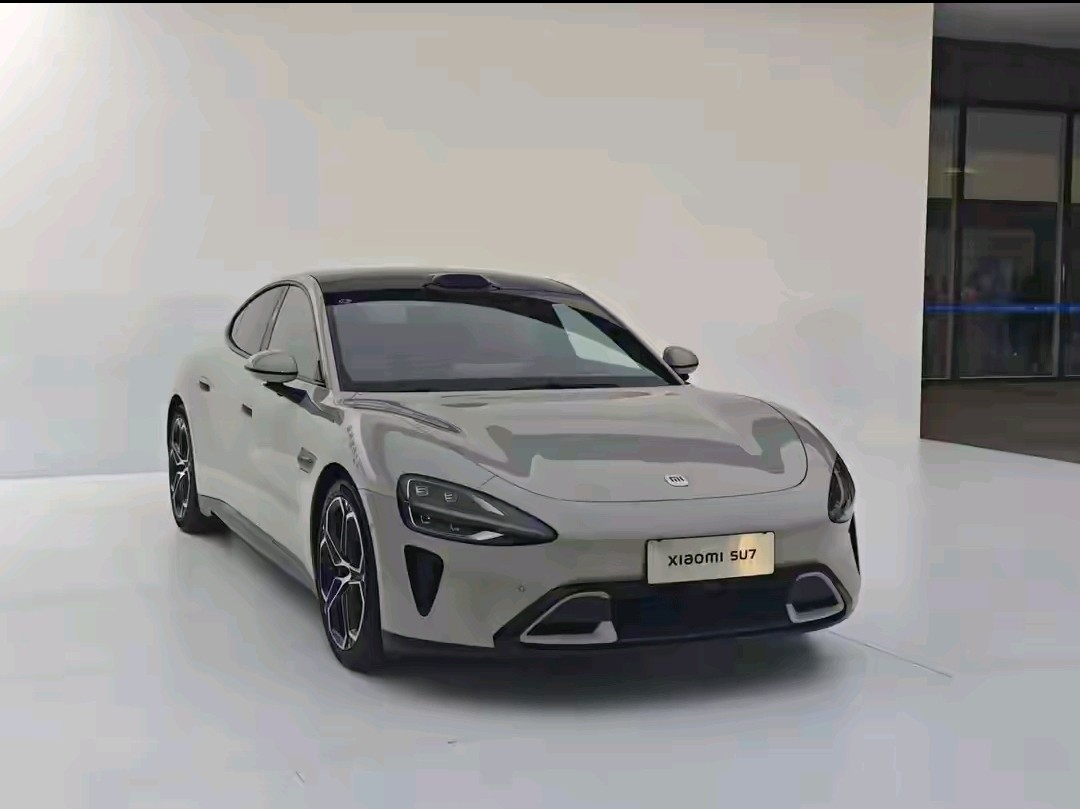su7: (175, 277, 855, 652)
